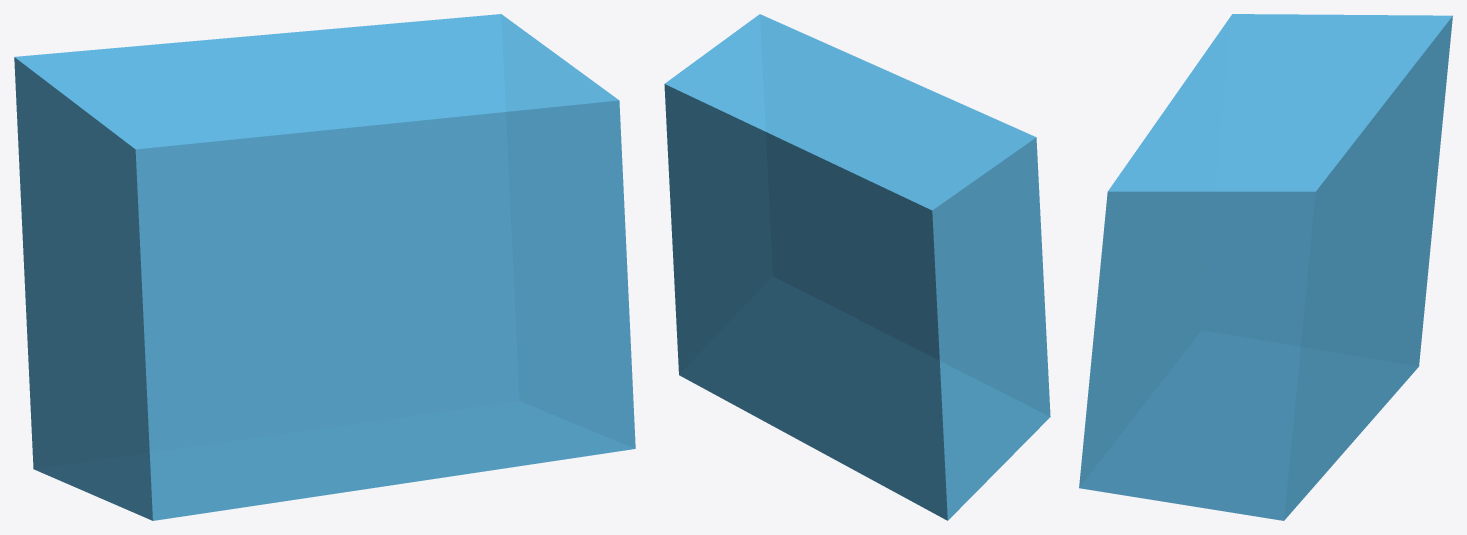
The model's file is Event_421556567_HErechit_10.fbx.
3 renders of one model, left to right at view 1: azimuth 30°, elevation 25°; view 2: azimuth 150°, elevation 25°; view 3: azimuth 270°, elevation 25°, orthographic. The views are drawn at different scales.
Visible parts, largest first — view 1: Model; view 2: Model; view 3: Model.
Part boxes in pixels (bbox=[...]): Model: bbox=[14, 14, 635, 520]; Model: bbox=[664, 14, 1050, 520]; Model: bbox=[1079, 14, 1452, 520].
Size of the model in its own units: 0.6728 by 0.6198 by 0.5985.
